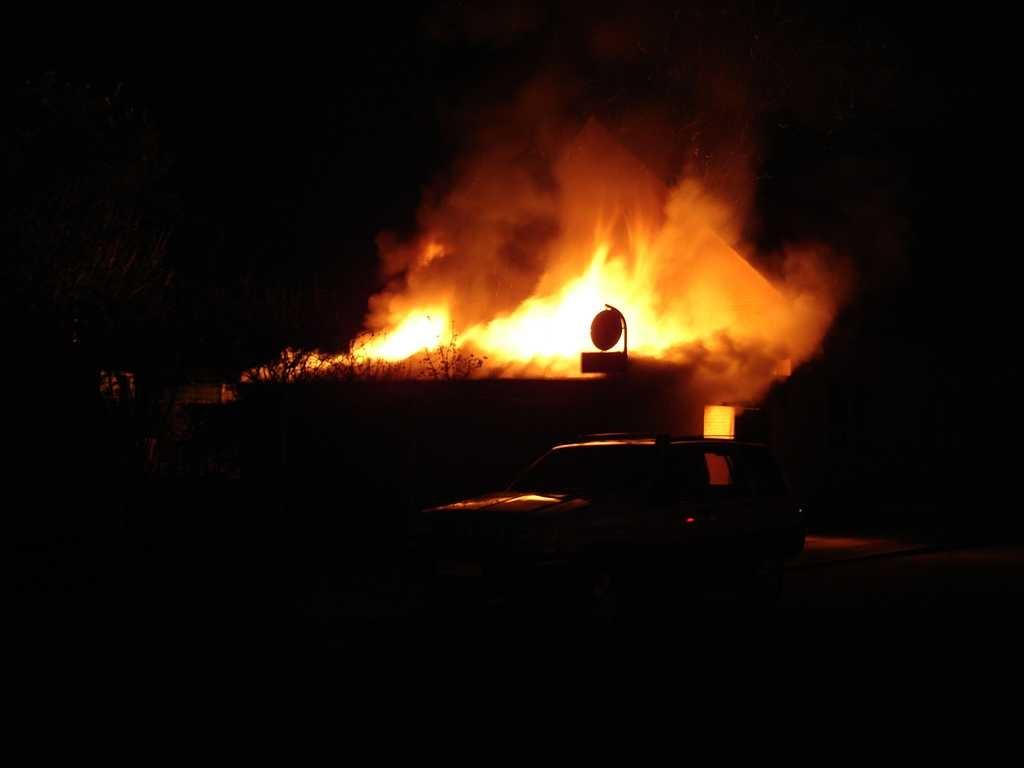fire: (484, 310, 582, 360), (378, 310, 452, 352)
smoke: (498, 140, 726, 268)
